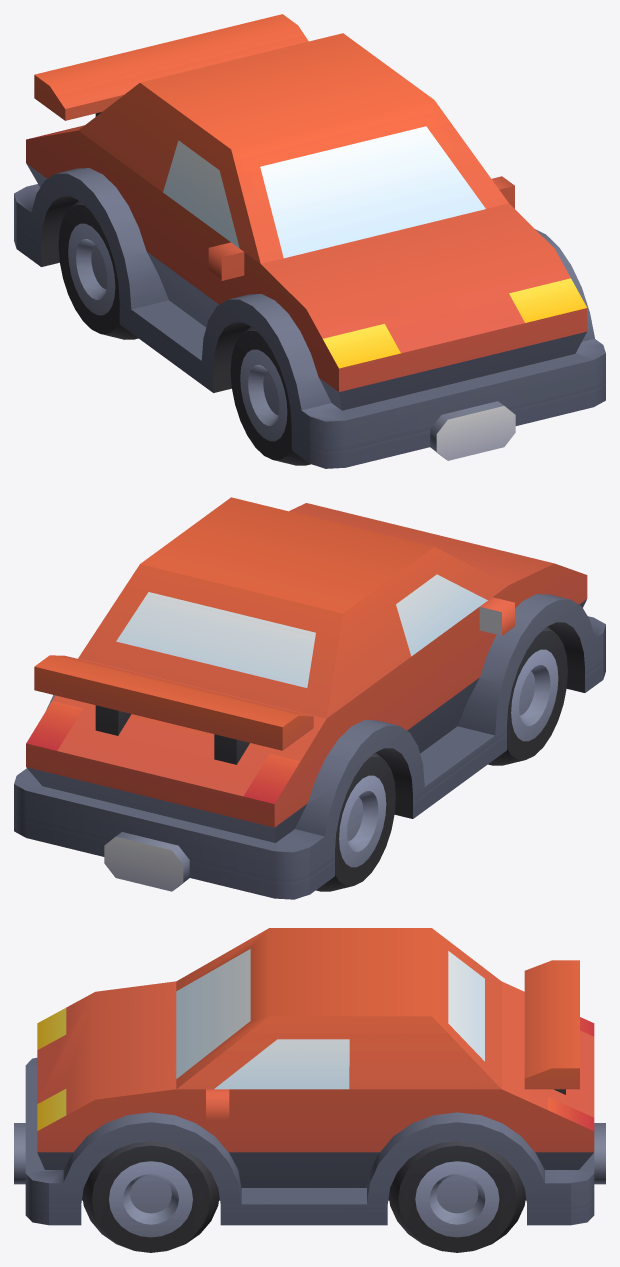
Rendered from sedan-sports-transformed.glb.
3 renders of one model, top to bottom at view 1: azimuth 30°, elevation 25°; view 2: azimuth 150°, elevation 25°; view 3: azimuth 270°, elevation 25°, orthographic. The views are drawn at different scales.
Parts seen in each view (by area): view 1: body; view 2: body; view 3: body.
Part boxes in pixels (left/top/right/bottom): body: left=14, top=14, right=605, bottom=468; body: left=14, top=497, right=605, bottom=899; body: left=14, top=928, right=605, bottom=1252.
Bounding box in the file's own units: 1.3 × 1.1 × 2.55.
Materials: 1 (1 with a texture image).
